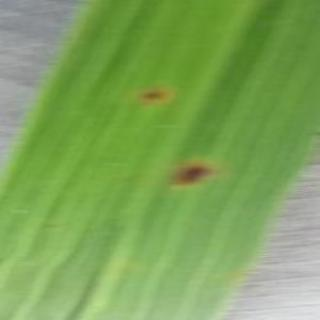bercak-Cokelat: (161, 155, 217, 198), (137, 82, 177, 116)
